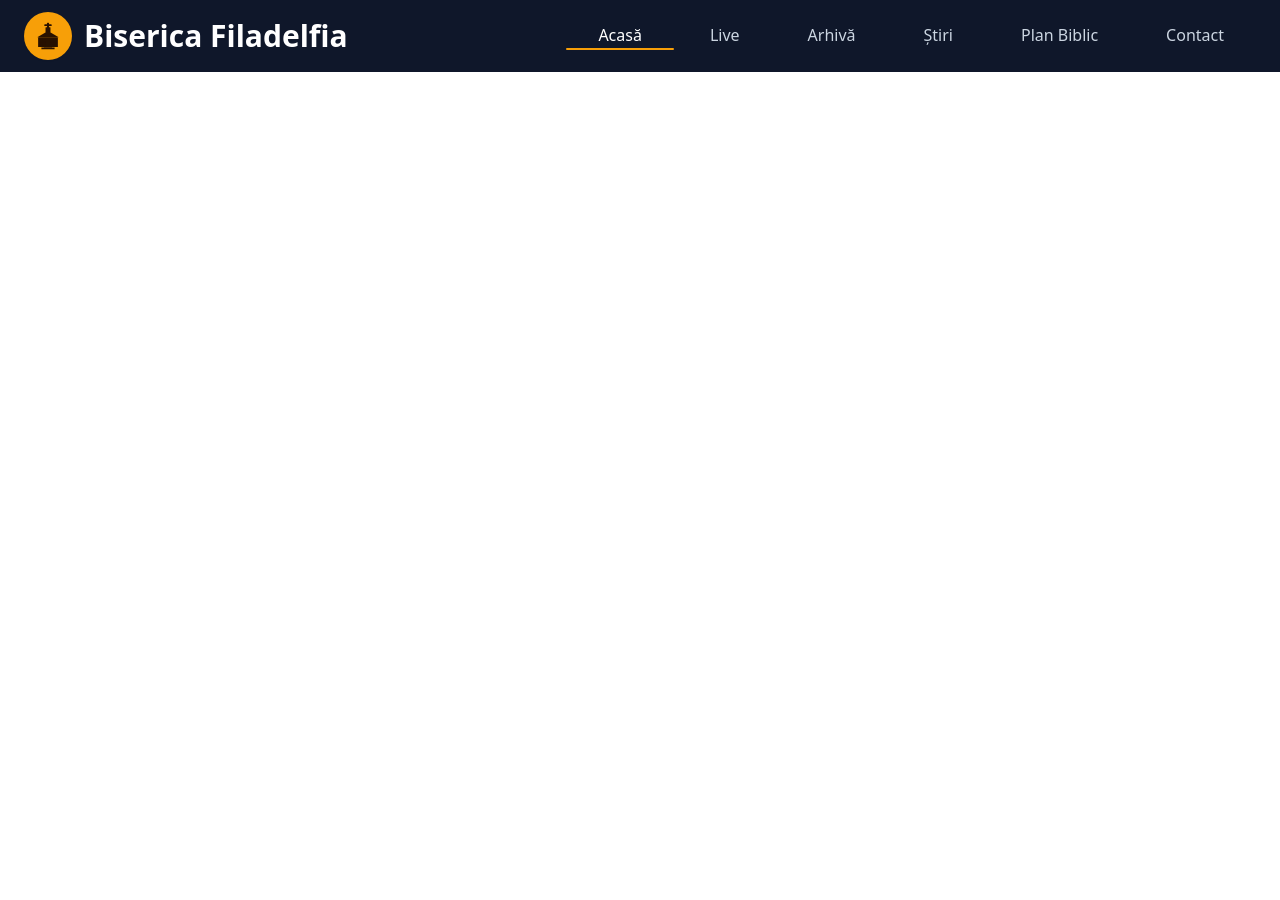
Test: Nav › shows popup when Arhivă is clicked
Click the link "Arhivă". click: (832, 36)
box: [776,23,888,49]
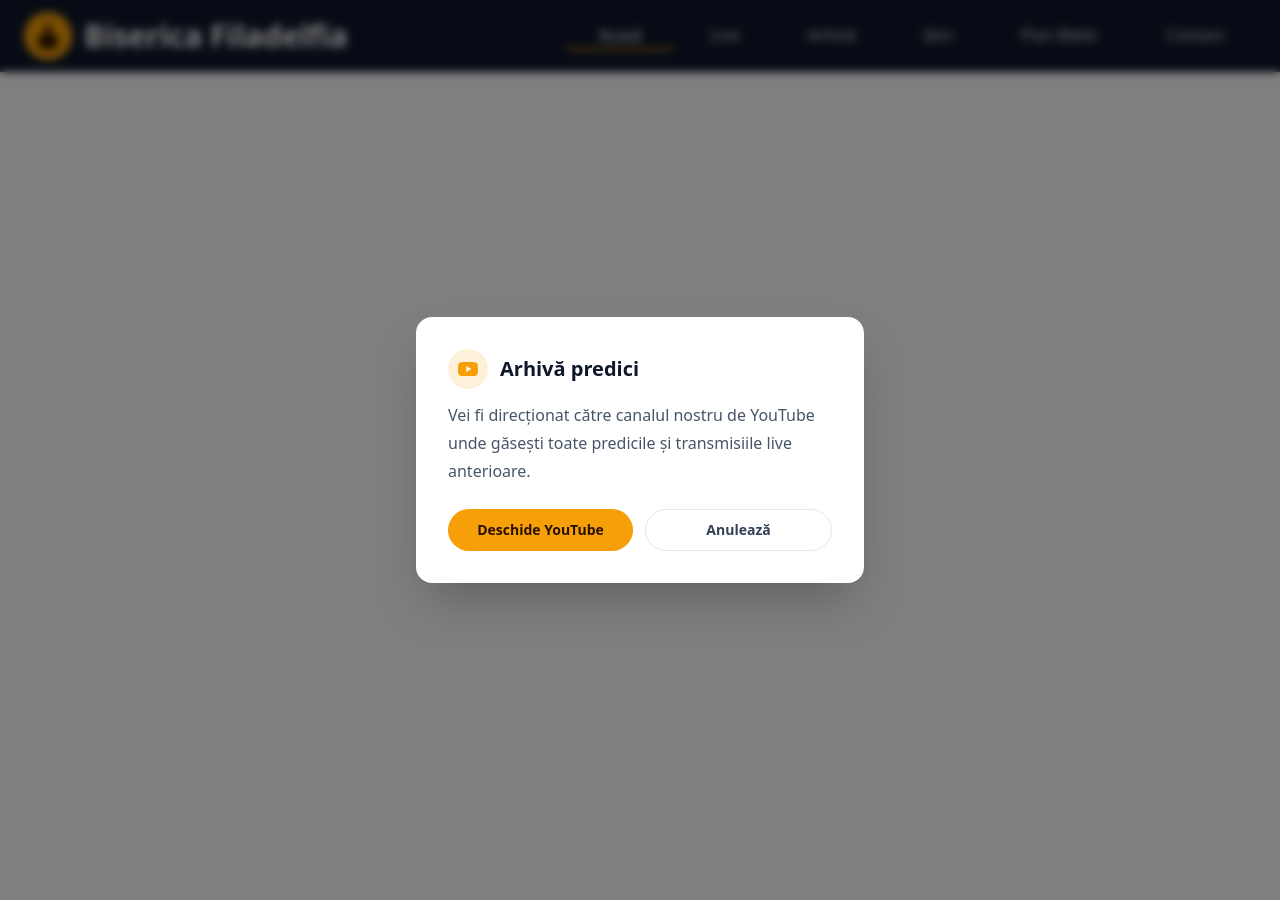
Expected: the heading "Arhivă predici" is shown, [500,355,639,383]
Expected: the button "Deschide YouTube" is shown, [448,509,633,551]
